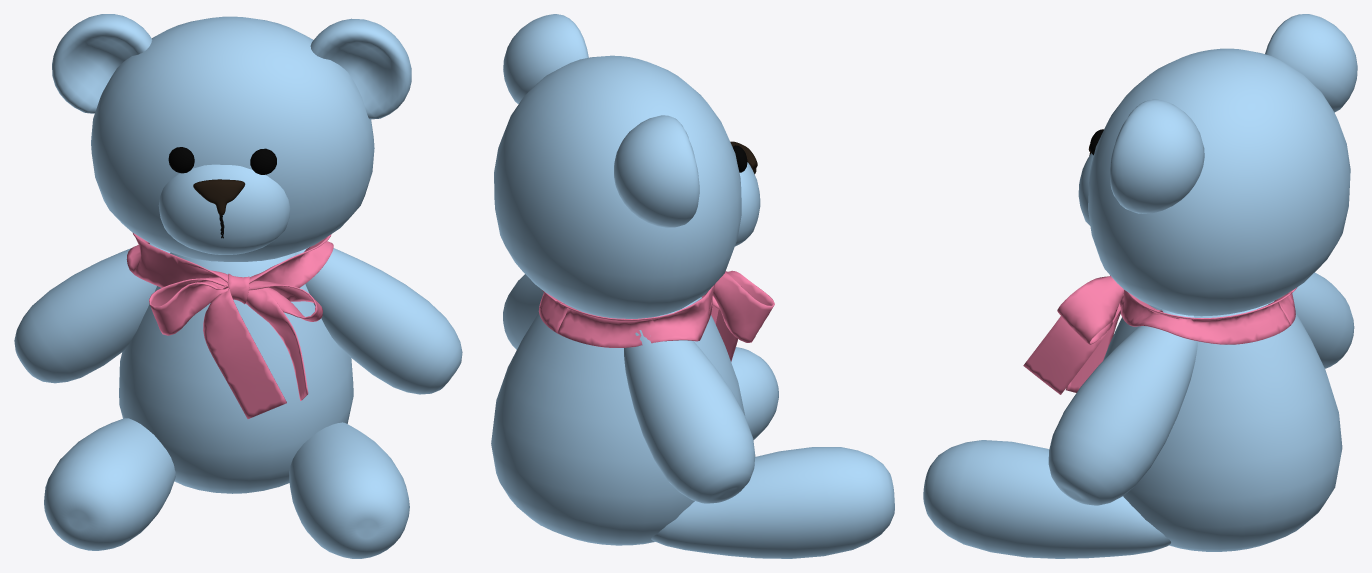
File: teddy.c77fc8ecb8.glb
The picture shows the model from 3 angles, left to right: view 1: azimuth 30°, elevation 25°; view 2: azimuth 150°, elevation 25°; view 3: azimuth 270°, elevation 25°; orthographic projection. The views are drawn at different scales.
Visible parts, largest first — view 1: Object_26_baked, bow_bear__FRONT_427414_0_baked, Object_29_baked, Object_28_baked; view 2: Object_26_baked, bow_bear__FRONT_427414_0_baked; view 3: Object_26_baked, bow_bear__FRONT_427414_0_baked.
Part boxes in pixels (<box>): Object_26_baked: <box>14,14,462,558</box>; bow_bear__FRONT_427414_0_baked: <box>126,233,333,418</box>; Object_29_baked: <box>168,147,276,174</box>; Object_28_baked: <box>193,179,245,215</box>; Object_26_baked: <box>491,14,894,558</box>; bow_bear__FRONT_427414_0_baked: <box>538,270,774,361</box>; Object_26_baked: <box>923,14,1357,558</box>; bow_bear__FRONT_427414_0_baked: <box>1023,275,1297,394</box>.
Bounding box in the file's own units: 0.3733 × 0.42 × 0.3435.
